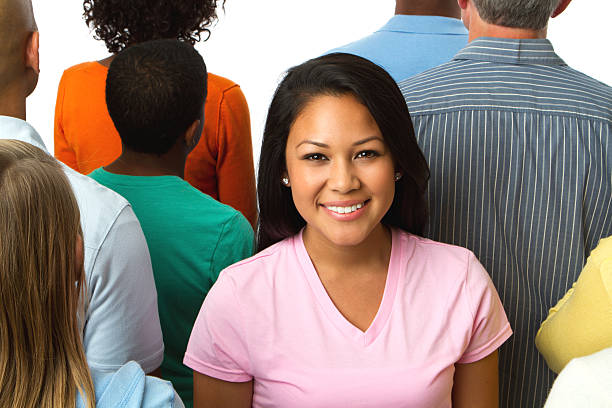face: (291, 116, 395, 247)
